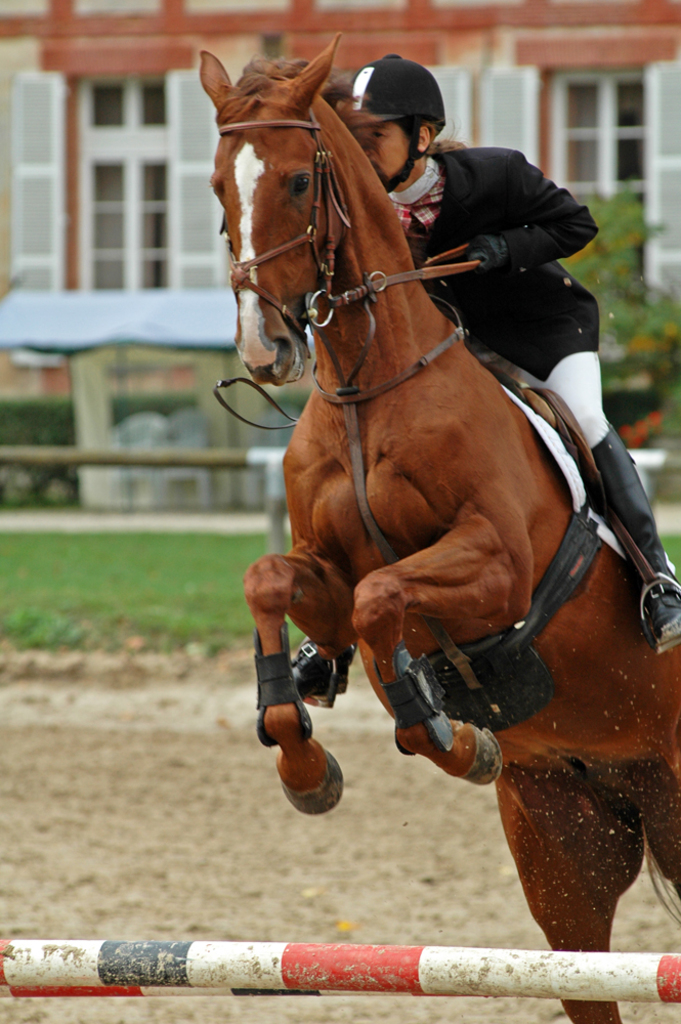Person: (291, 53, 681, 708)
